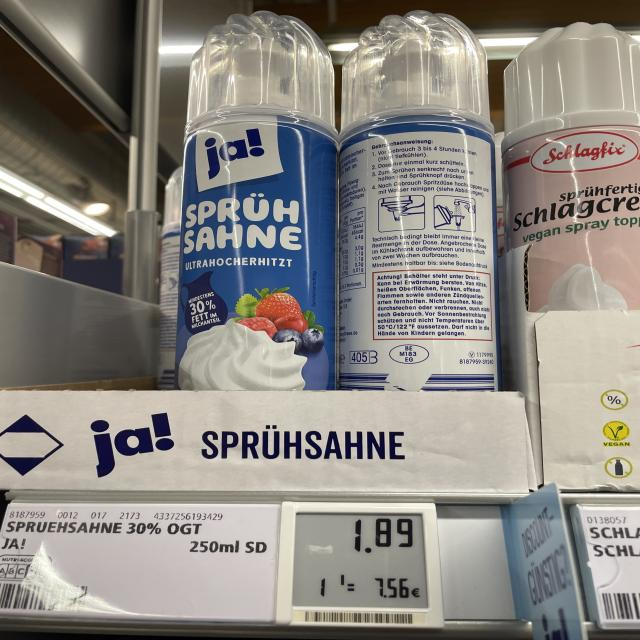cream: (172, 10, 337, 390), (338, 10, 500, 391), (503, 21, 640, 312), (157, 166, 182, 390)
